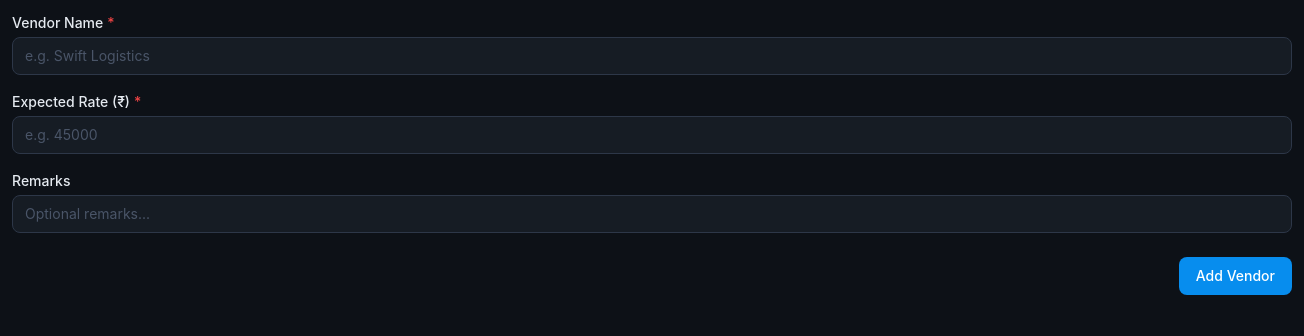
Scenario: AddVendorForm › shows error when rate is zero
The image size is (1304, 336).
Step 1. Type "Test Vendor" into the field labelled "Vendor Name*" → (652, 56), box top-left (12, 37), bottom-right (1292, 75)
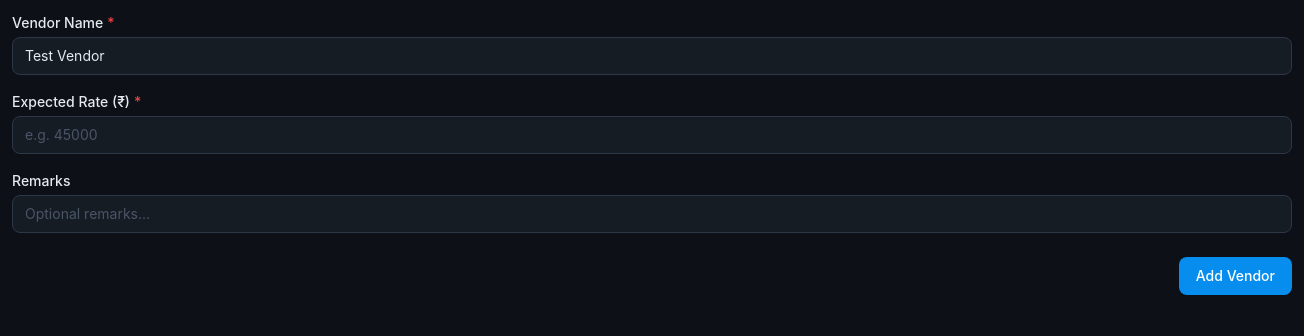
Step 2. Type "0" into the number field labelled "Expected Rate (₹)*" → (652, 135), box top-left (12, 116), bottom-right (1292, 154)
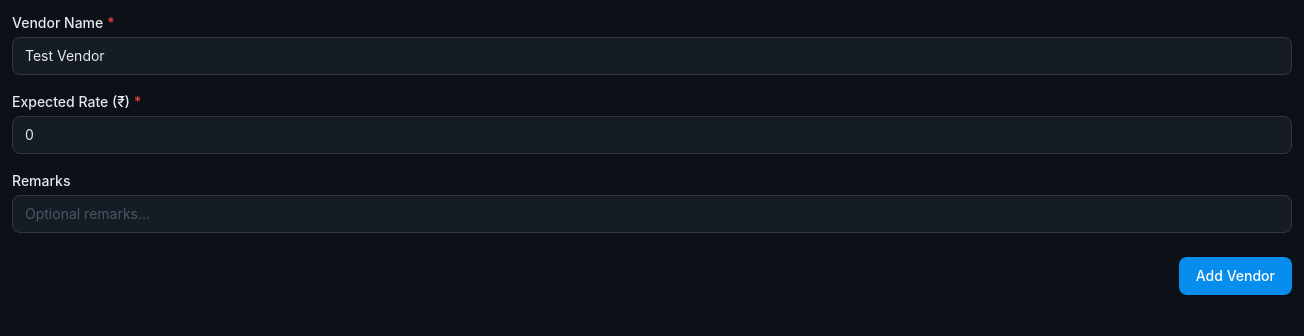
Step 3. Click the button "Add Vendor" → (1235, 276), box top-left (1179, 257), bottom-right (1292, 295)
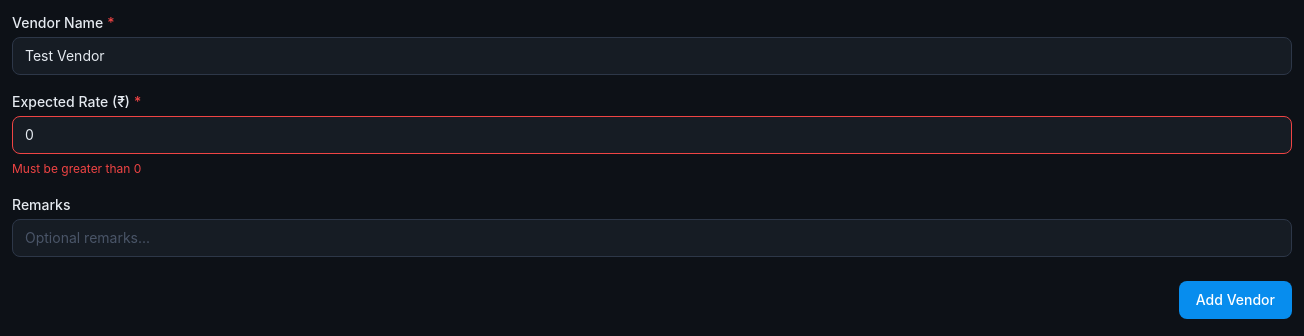
Expected: the text "Must be greater than 0" is shown, top-left (12, 161), bottom-right (141, 176)
